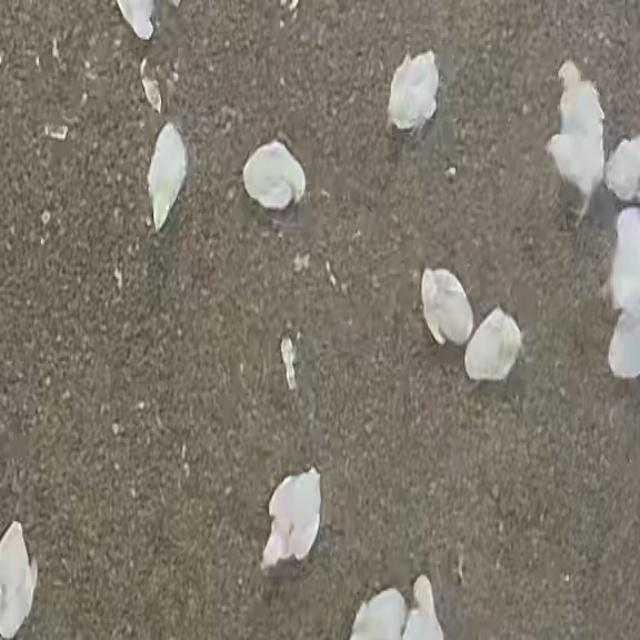chicken: (258, 464, 324, 570), (418, 261, 475, 347), (244, 138, 309, 210), (146, 122, 188, 232), (468, 304, 522, 384), (388, 50, 439, 134)
